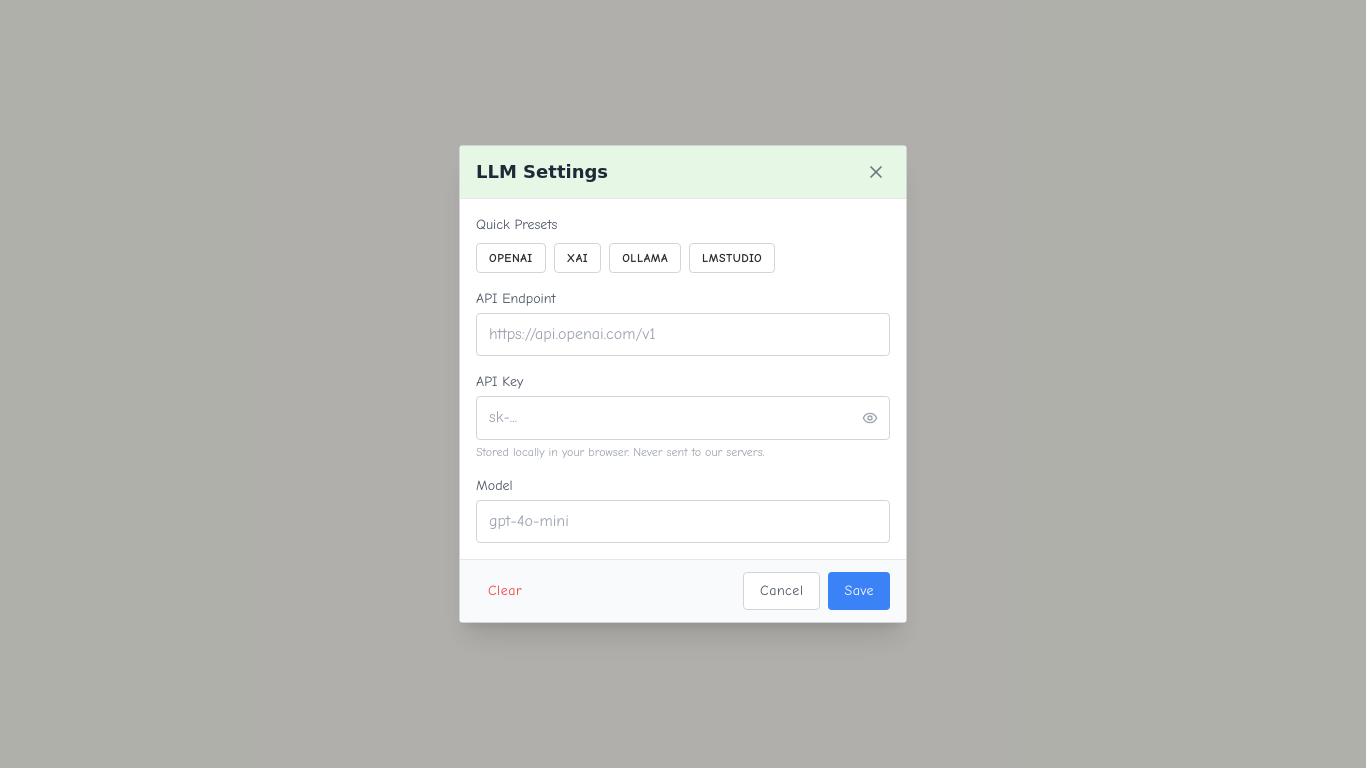
LLMSettingsPanel › fills form with preset values when provider clicked
Click the button "OPENAI". click: [511, 258]
box: [476,243,546,273]
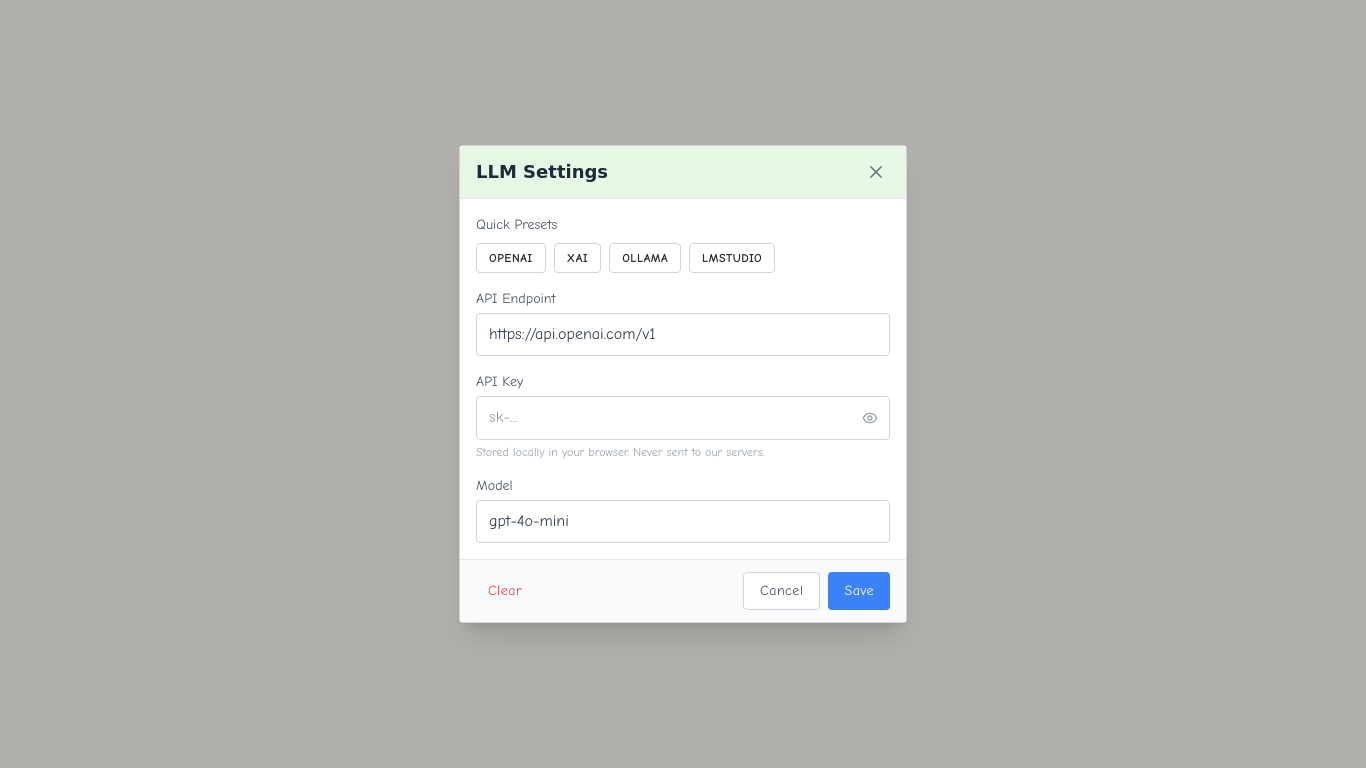
Result: the field labelled "API Endpoint" holds "https://api.openai.com/v1" at [476,313,890,356]
Result: the field labelled "Model" holds "gpt-4o-mini" at [476,500,890,543]
